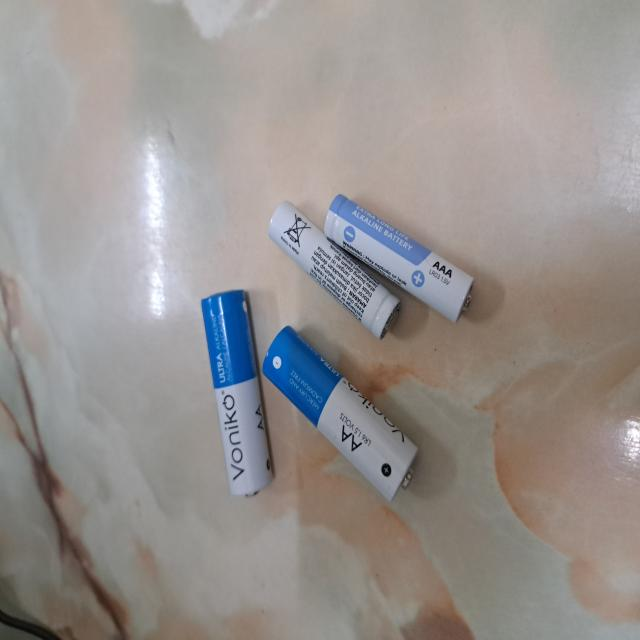battery: (263, 322, 420, 500), (322, 192, 477, 324), (268, 197, 403, 342), (200, 288, 276, 499)
